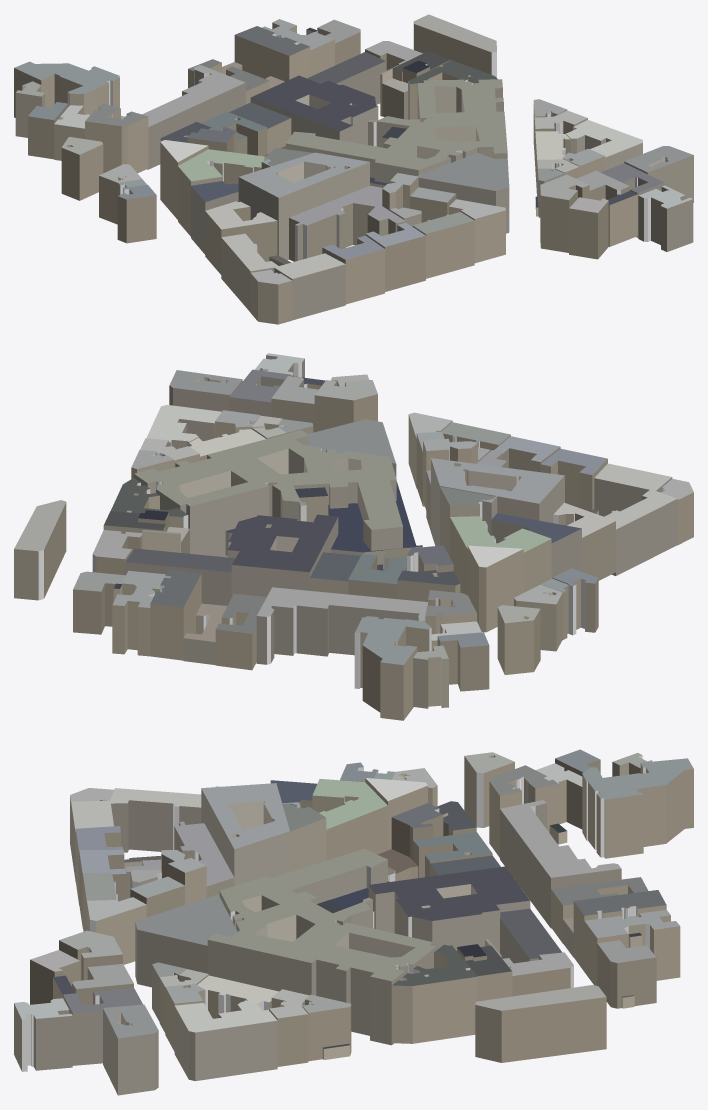
3 renders of one model, top to bottom at view 1: azimuth 30°, elevation 25°; view 2: azimuth 150°, elevation 25°; view 3: azimuth 270°, elevation 25°, orthographic. The views are drawn at different scales.
Parts seen in each view (by area): view 1: tuile; view 2: tuile; view 3: tuile.
Boxes of the visible parts, <box> form: tuile: <box>14,14,693,324</box>; tuile: <box>14,353,693,720</box>; tuile: <box>14,749,693,1095</box>.
Size of the model in its own units: 268 by 39.28 by 279.
